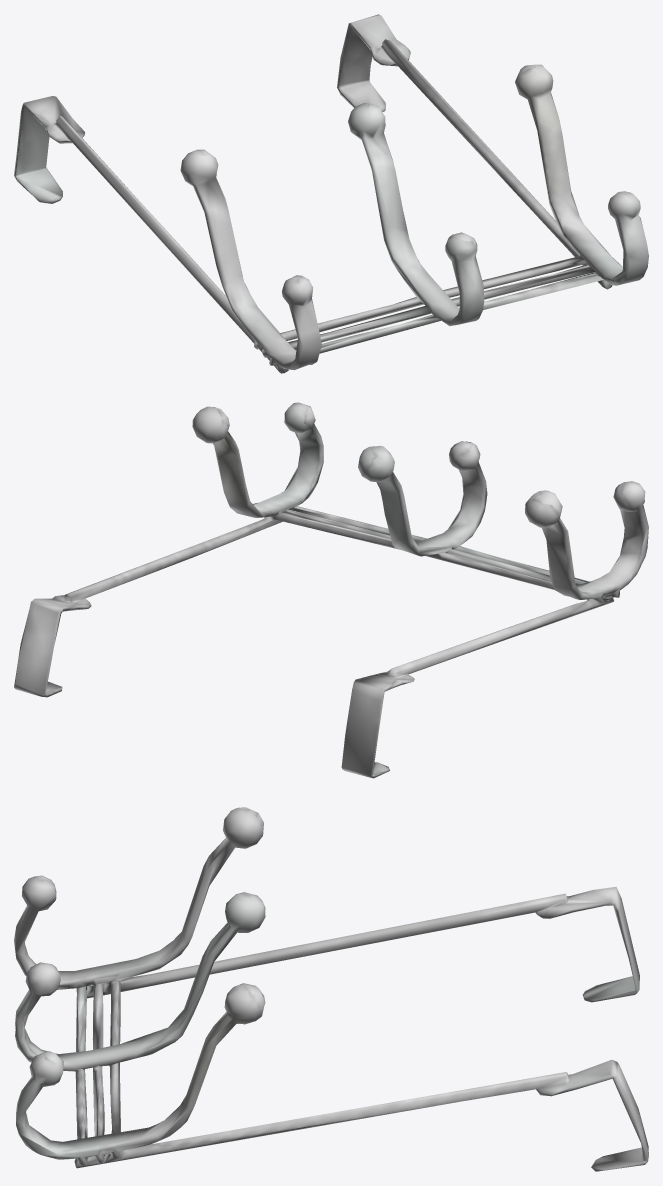
Rendered from InterDesign_Over_Door-medium.glb.
The picture shows the model from 3 angles, top to bottom: view 1: azimuth 30°, elevation 25°; view 2: azimuth 150°, elevation 25°; view 3: azimuth 270°, elevation 25°; orthographic projection. The views are drawn at different scales.
Visible parts, largest first — view 1: InterDesign_Over_Door; view 2: InterDesign_Over_Door; view 3: InterDesign_Over_Door.
Boxes of the visible parts, x1,y1,x2,y2 form: InterDesign_Over_Door: (14,14,648,373); InterDesign_Over_Door: (14,402,648,778); InterDesign_Over_Door: (14,807,648,1171).
Size of the model in its own units: 0.2147 by 0.0969 by 0.2911.
Materials: 1 (1 with a texture image).
